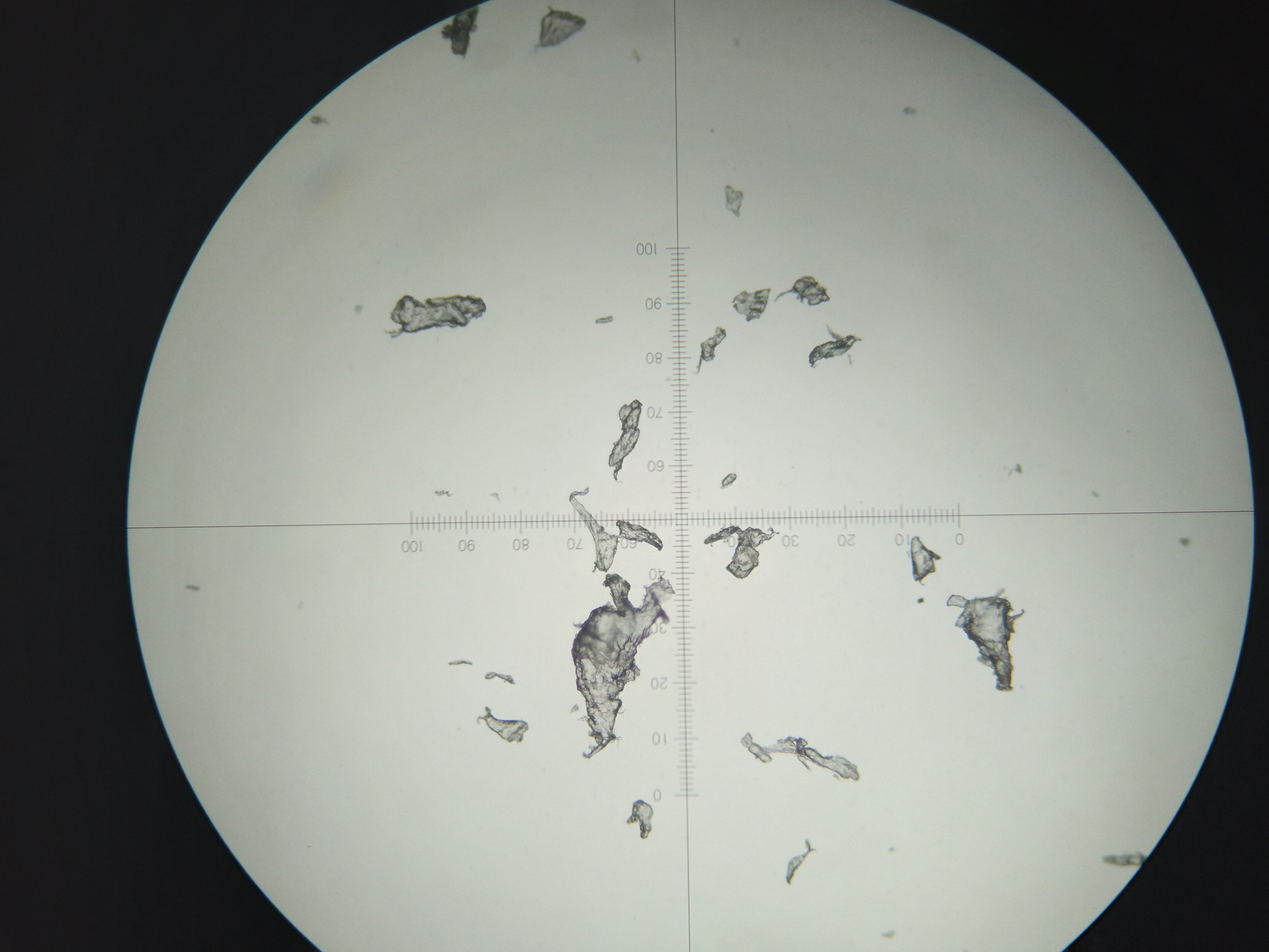microplastic: (564, 570, 681, 761), (940, 585, 1035, 697), (564, 486, 668, 573), (736, 731, 875, 789), (380, 294, 498, 339), (700, 528, 788, 578), (600, 396, 645, 484), (529, 9, 599, 59), (807, 323, 869, 373), (470, 707, 537, 745), (773, 273, 839, 310), (435, 12, 485, 56), (726, 283, 773, 325), (900, 538, 945, 580), (694, 324, 729, 373), (787, 839, 821, 889), (630, 793, 660, 846), (720, 182, 748, 222), (485, 668, 516, 687), (720, 468, 738, 496), (446, 656, 474, 670), (432, 486, 455, 500), (591, 315, 622, 325), (488, 490, 505, 503)
